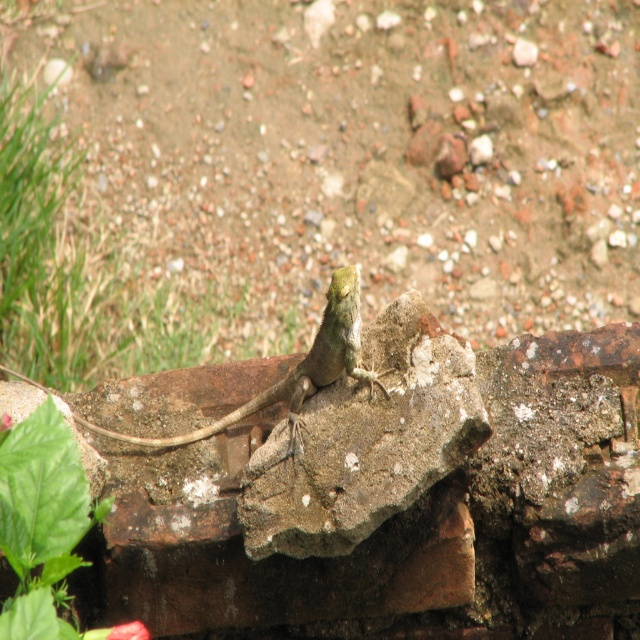Lizard: (70, 265, 398, 451)
